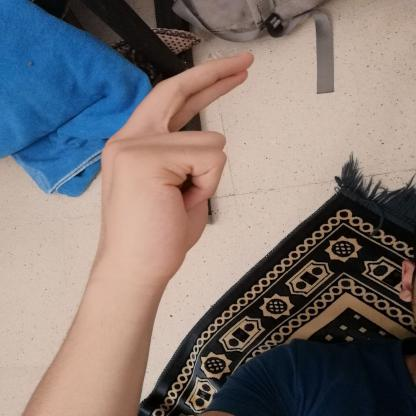ZAY: (84, 45, 266, 286)
